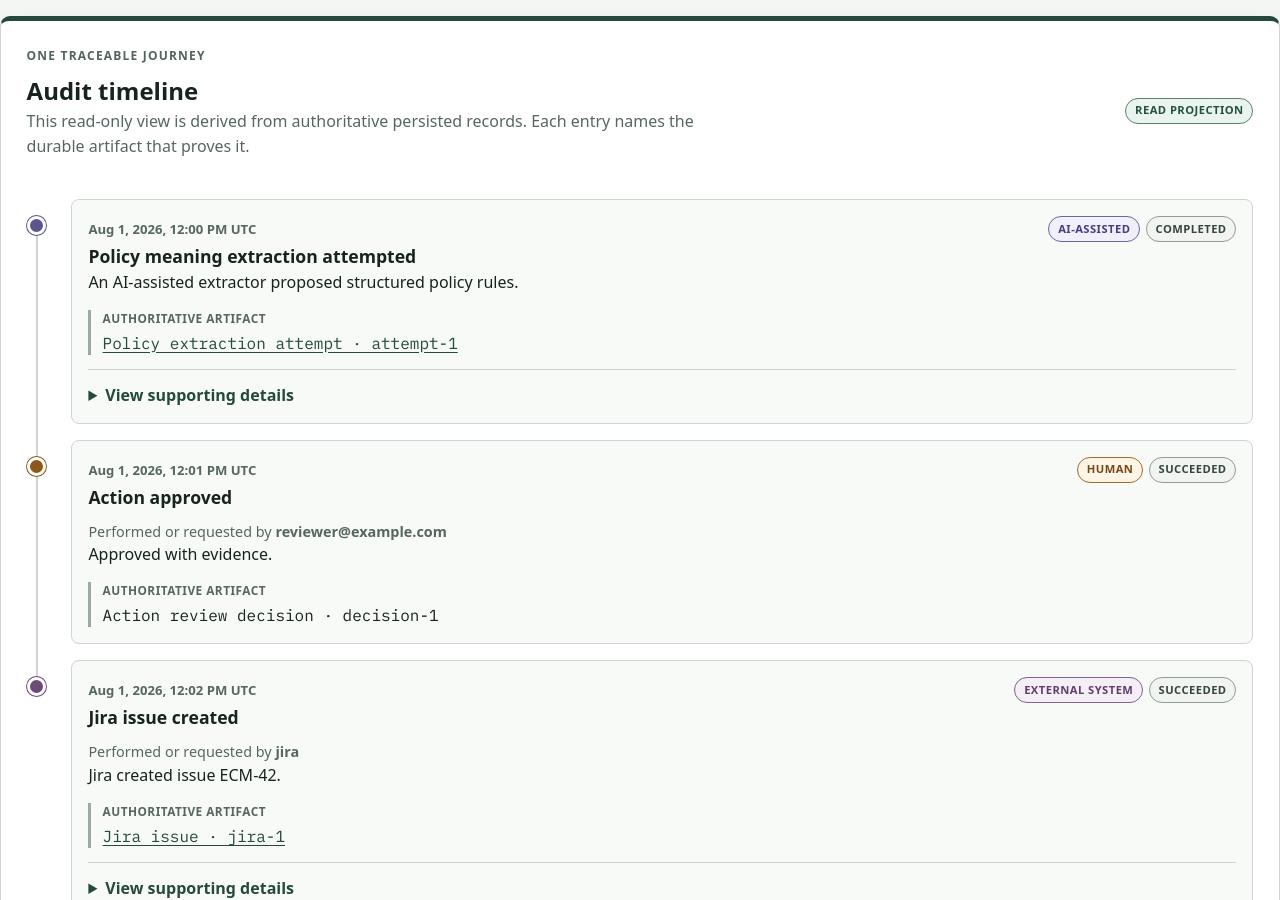
it: audit timeline › exposes secondary metadata through an accessible disclosure
Click the heading "View supporting details" below "Policy extraction attempt · attempt-1" at (191, 395), box [88,383,294,407]
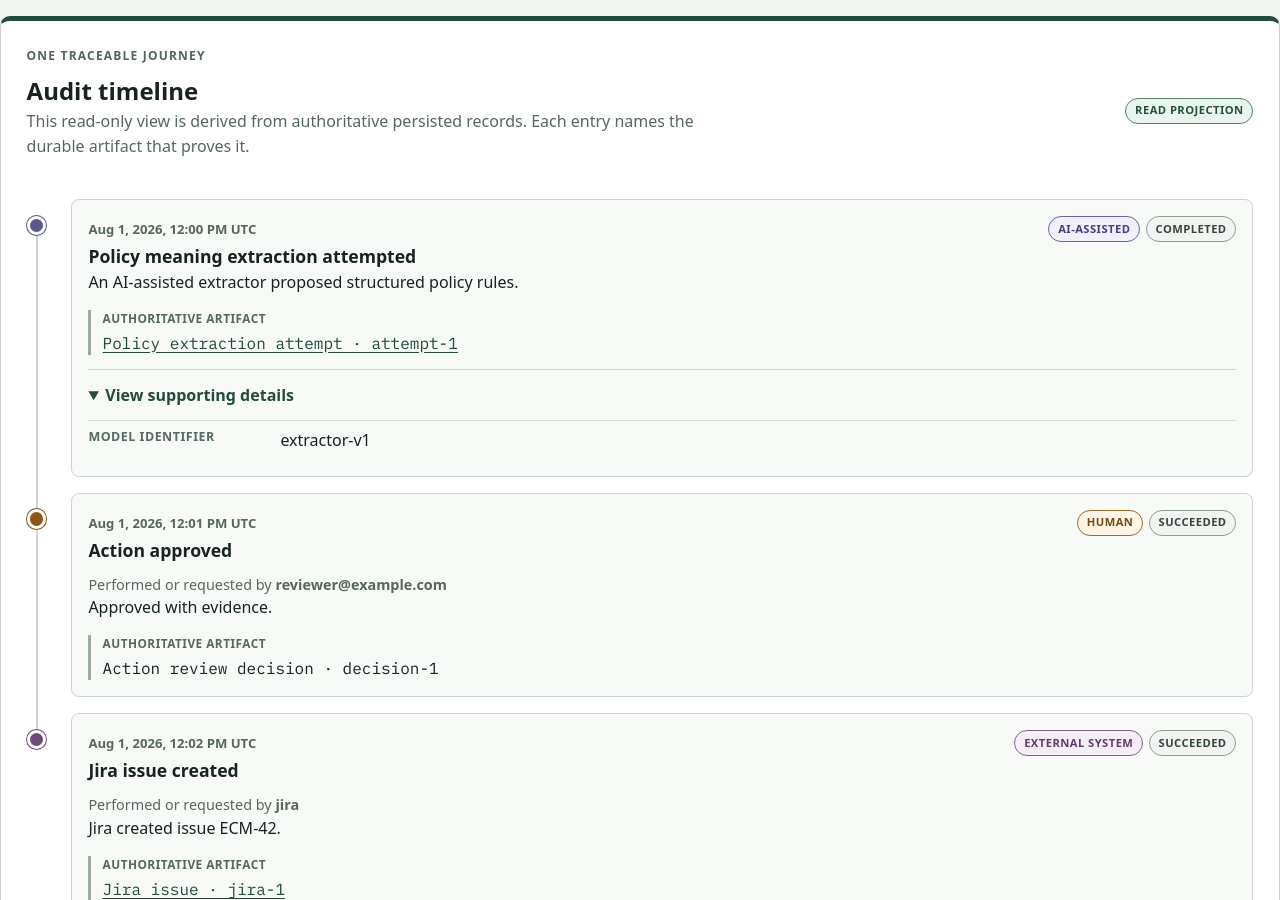
Result: the text "extractor-v1" is shown at [280,430,371,452]
